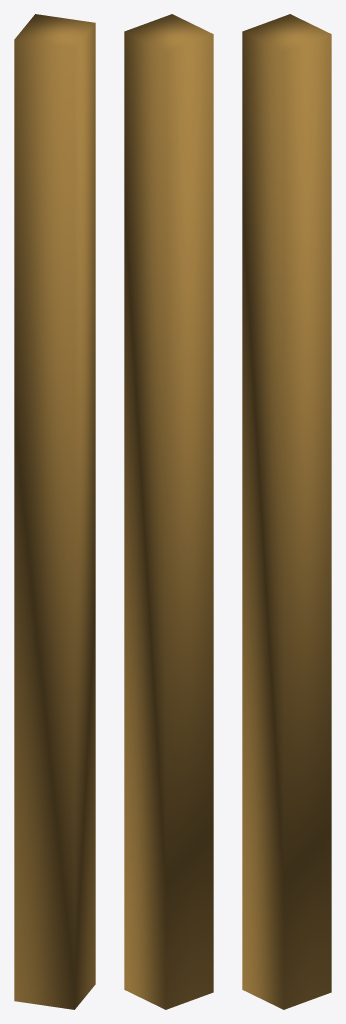
The model's file is WallPanelSpoke.fbx.
The picture shows the model from 3 angles, left to right: view 1: azimuth 90°, elevation 25°; view 2: azimuth 150°, elevation 25°; view 3: azimuth 330°, elevation 25°; orthographic projection.
Visible parts, largest first — view 1: WallPanel_Screen.001; view 2: WallPanel_Screen.001; view 3: WallPanel_Screen.001.
Part boxes in pixels (<box>): WallPanel_Screen.001: <box>14,14,95,1009</box>; WallPanel_Screen.001: <box>124,14,213,1009</box>; WallPanel_Screen.001: <box>242,14,331,1009</box>.
Size of the model in its own units: 69.45 by 908 by 69.45.
